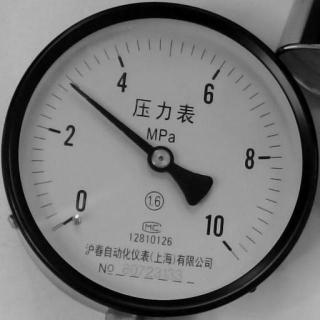gauge: (0, 0, 320, 320), (44, 184, 100, 244), (211, 228, 239, 257), (148, 144, 175, 174), (66, 79, 80, 91)
